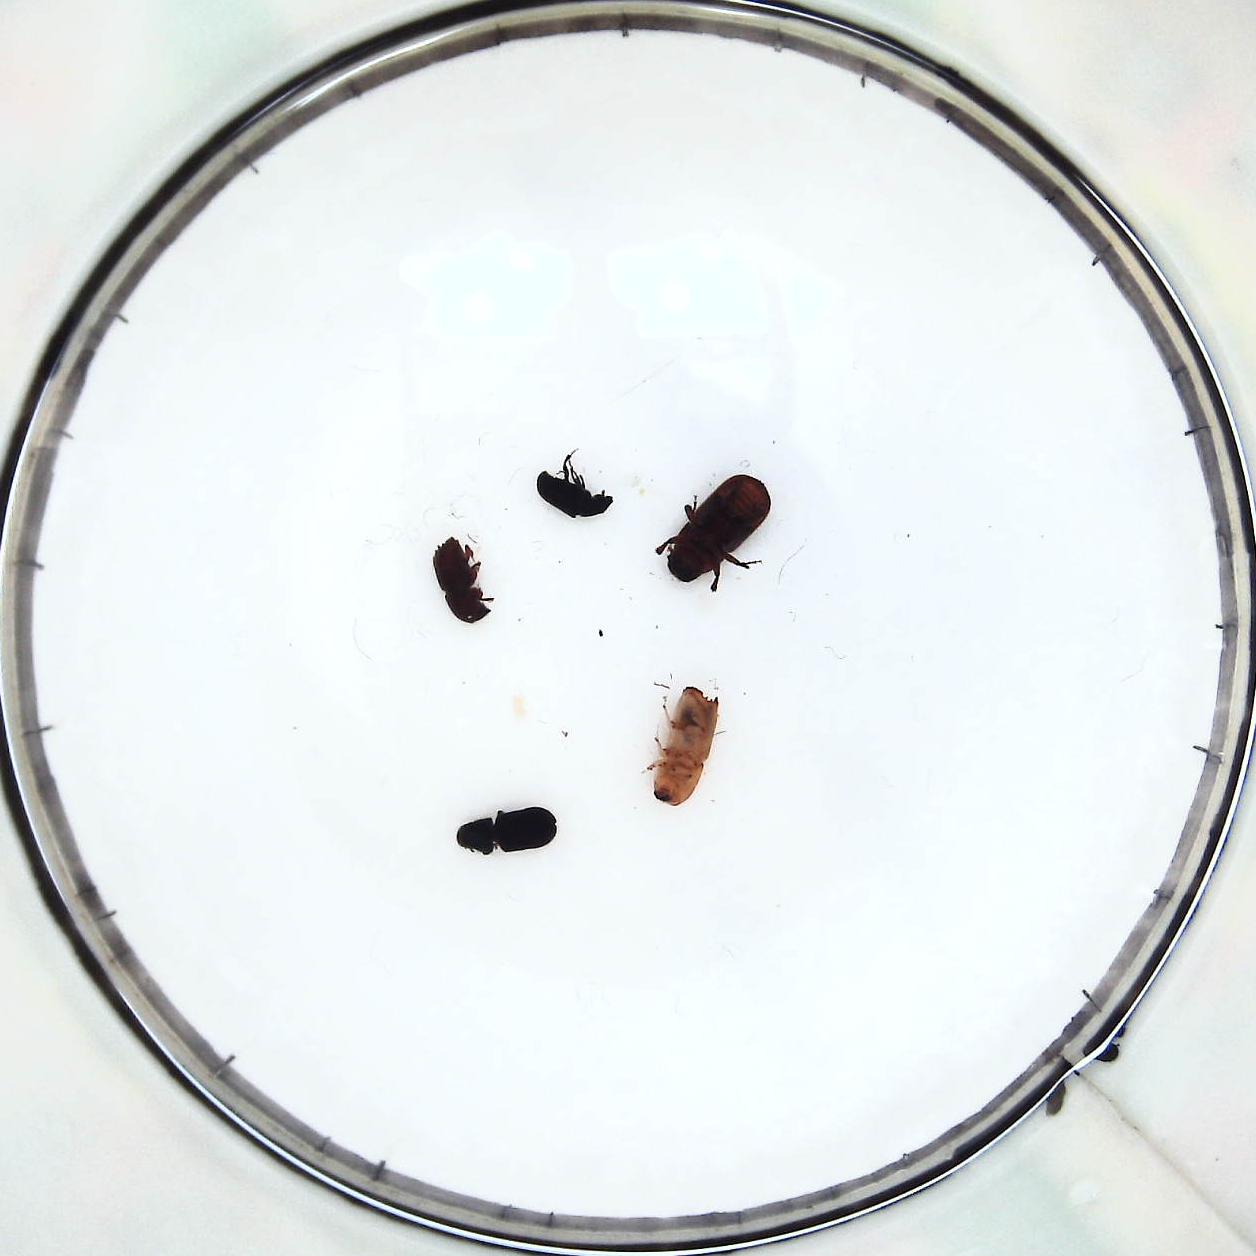Boerner: (651, 682, 717, 807)
Leconte: (663, 476, 769, 588)
Linnaeus: (432, 536, 500, 627)
armandi: (457, 809, 556, 857)
coleoptera: (539, 464, 613, 523)
